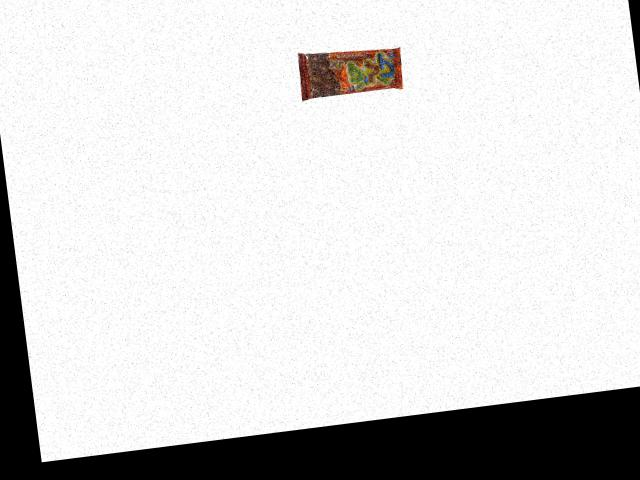chocolate: (296, 42, 405, 101)
